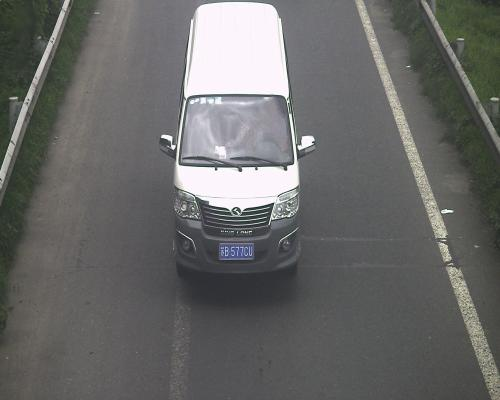Carplate: (213, 236, 259, 266)
